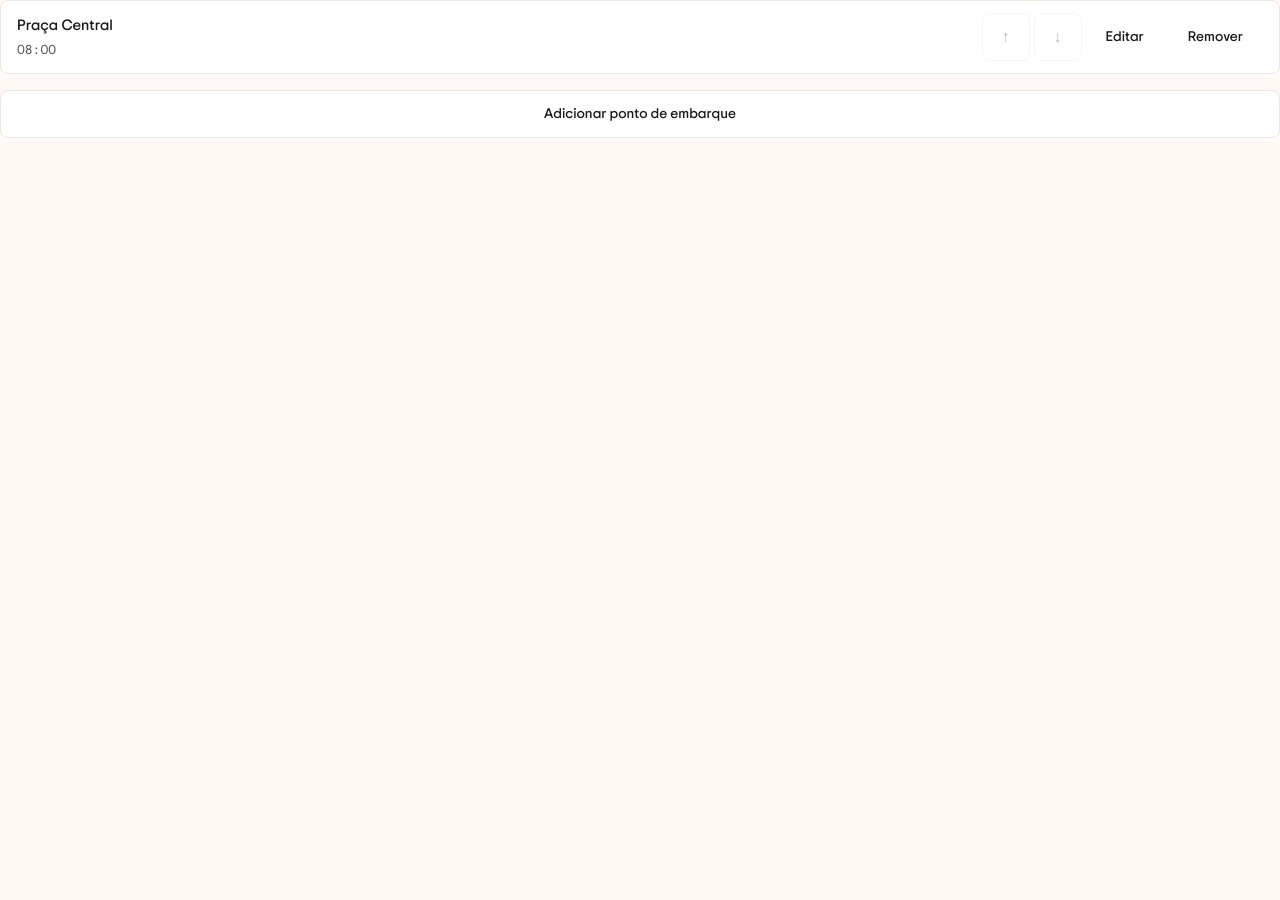
Scenario: PontosEmbarqueTab › mostra o erro do servidor (ex.: ultimo_ponto) ao tentar remover
Click the button "Remover".
click(1215, 37)  # box [1168,13,1263,61]
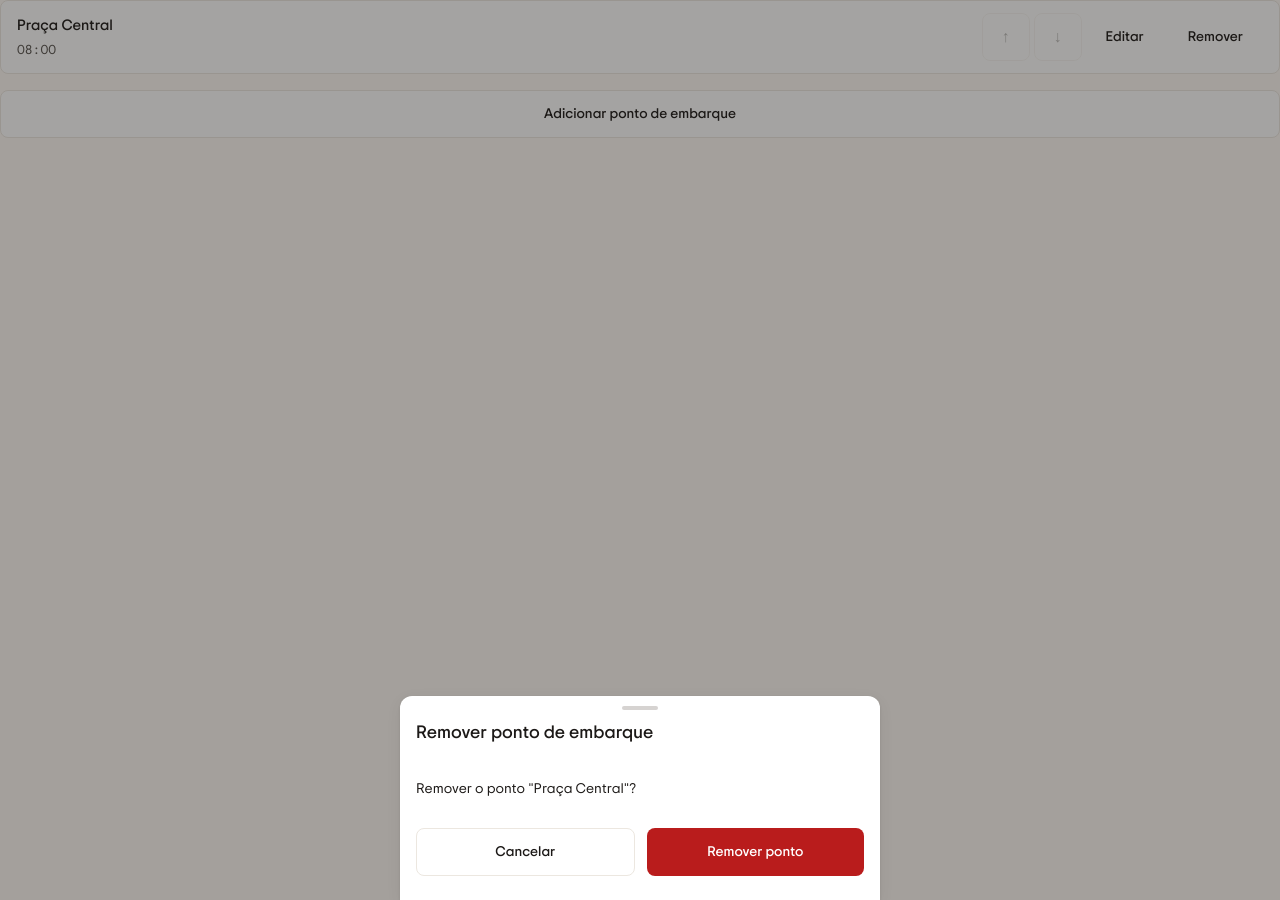
Click the button "Remover ponto".
click(755, 852)  # box [647,828,864,876]
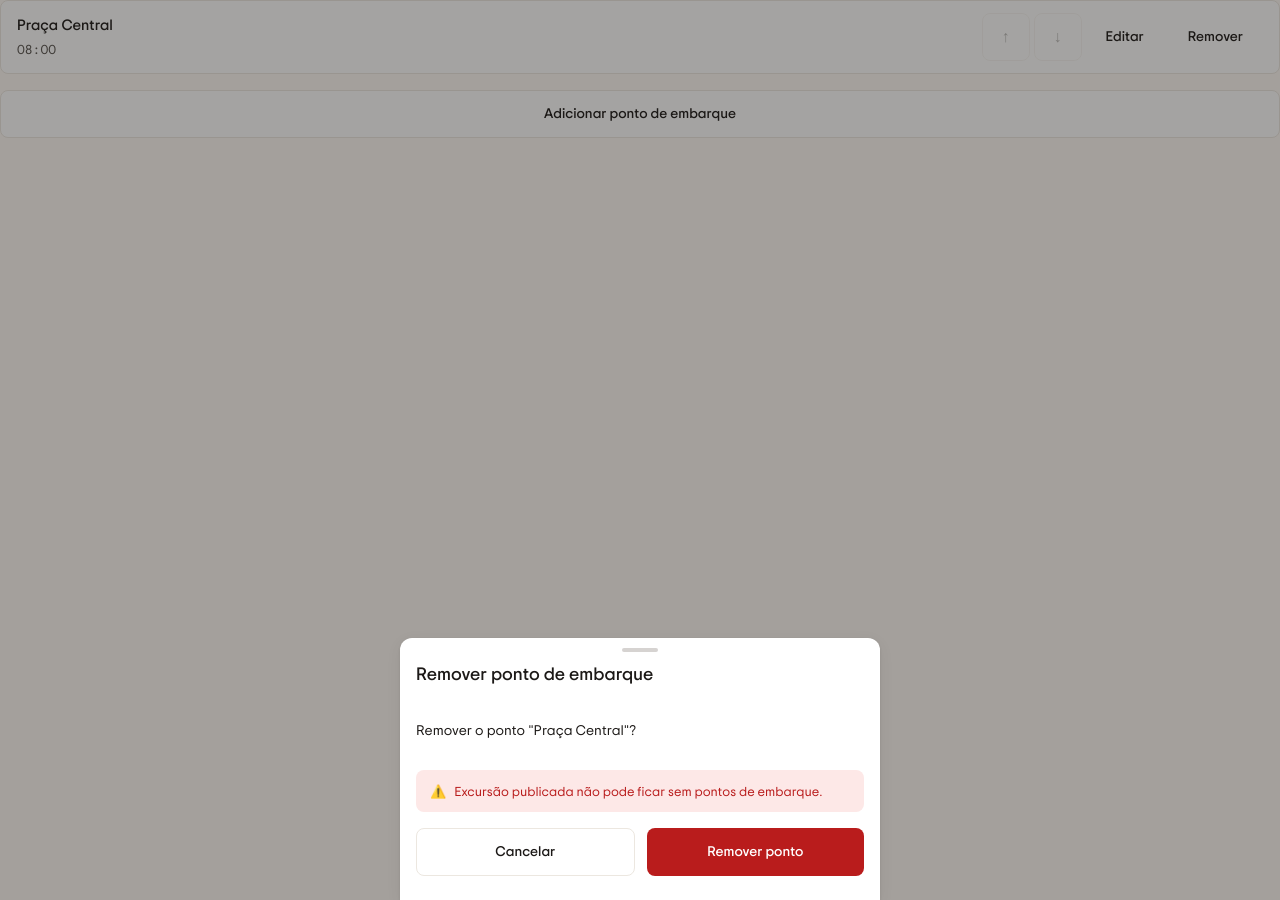
Now the text "Excursão publicada não pode ficar sem pontos de embarque." is shown, box [454,782,822,800]
